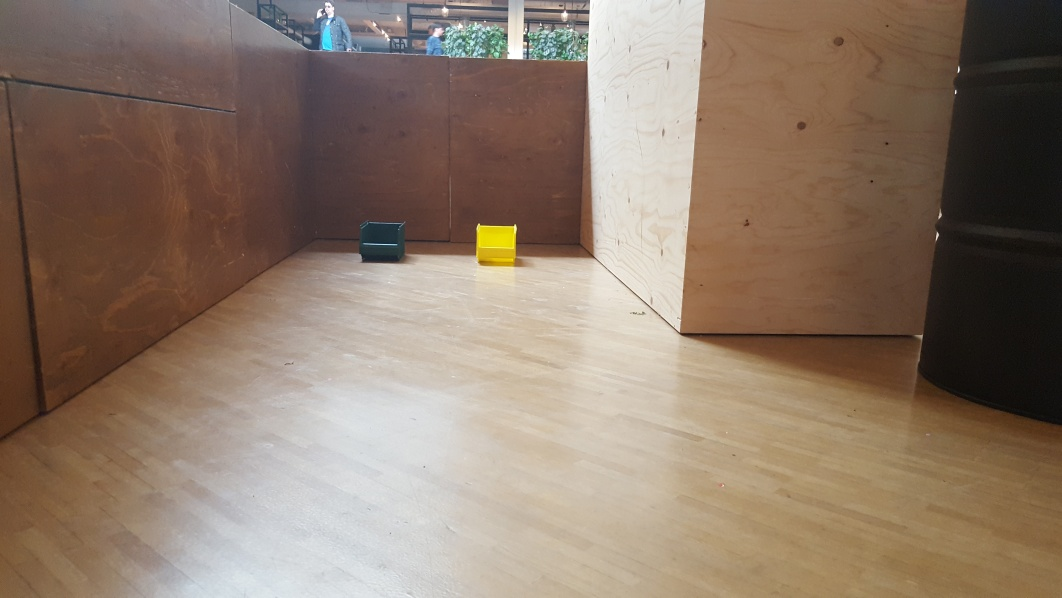tray: (355, 215, 408, 266), (472, 219, 520, 268)
